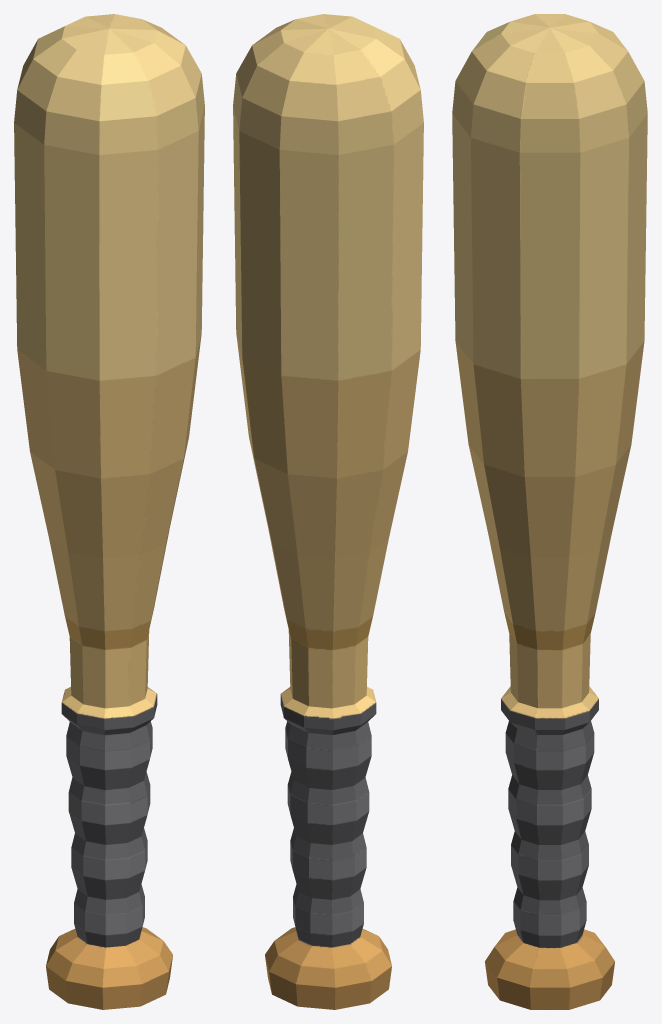
Rendered from Bat.fbx.
The picture shows the model from 3 angles, left to right: view 1: azimuth 30°, elevation 25°; view 2: azimuth 150°, elevation 25°; view 3: azimuth 270°, elevation 25°; orthographic projection.
Visible parts, largest first — view 1: Bat; view 2: Bat; view 3: Bat.
Part boxes in pixels (x1,y1,x2,y2): Bat: (14,14,204,1009); Bat: (233,14,423,1009); Bat: (452,14,647,1009).
Bounding box in the file's own units: 57.06 × 329 × 60.
1 material, 1 textured.
